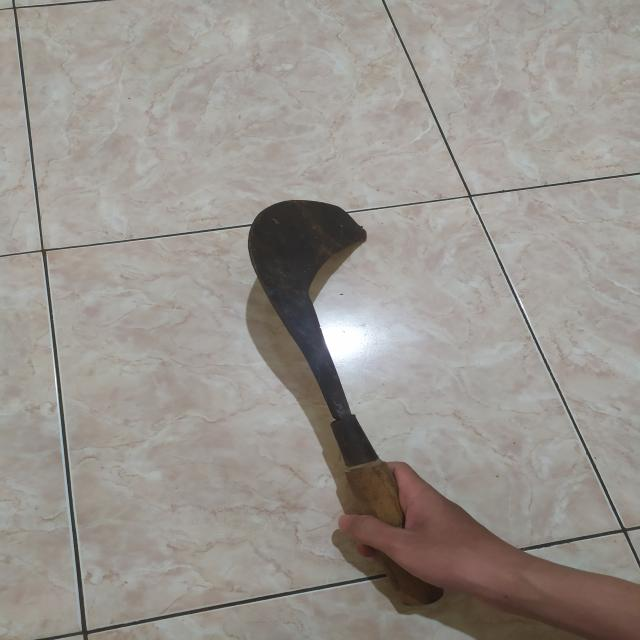Celurit: (249, 203, 451, 606)
